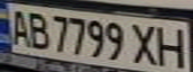7: (45, 12, 72, 53), (66, 15, 87, 55)
9: (103, 18, 130, 62), (84, 17, 106, 59)
A: (3, 6, 33, 47)
B: (24, 8, 51, 51)
H: (151, 22, 193, 69)
X: (127, 21, 163, 66)
